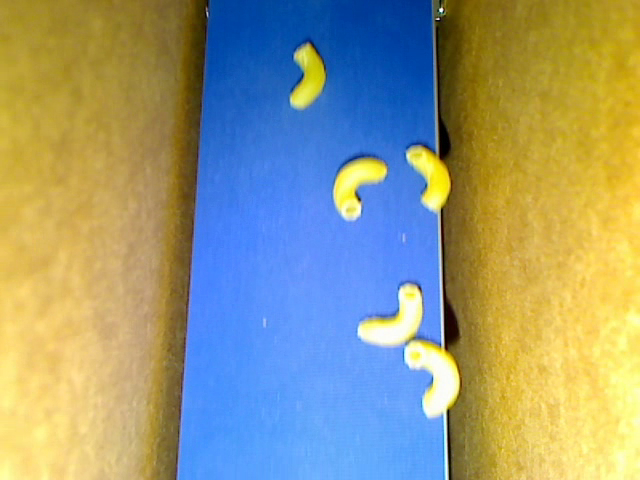elbow: (357, 280, 424, 348), (403, 340, 460, 418), (331, 155, 388, 222), (404, 143, 450, 212), (289, 43, 326, 109)
